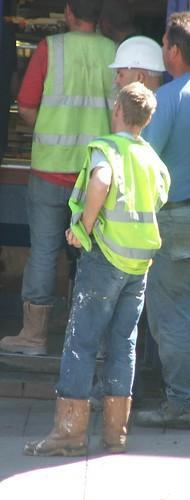vest: (68, 127, 172, 276), (32, 33, 117, 176)
